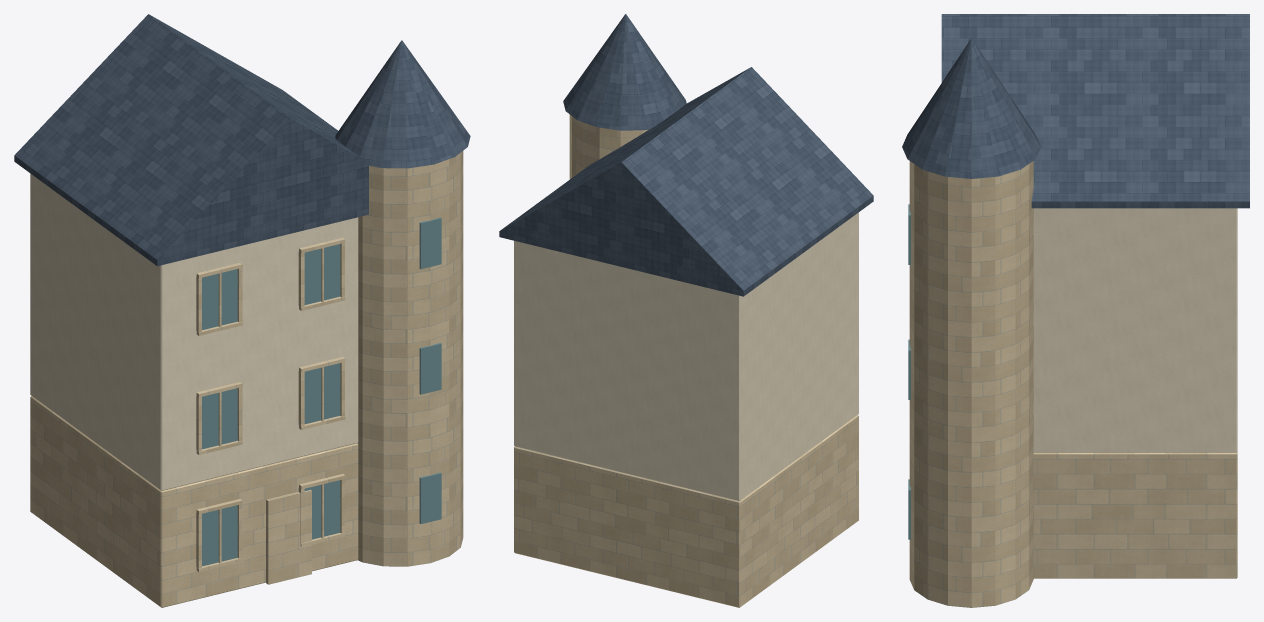
Rendered from Furn_Town_House_B.fbx.
The picture shows the model from 3 angles, left to right: view 1: azimuth 30°, elevation 25°; view 2: azimuth 150°, elevation 25°; view 3: azimuth 270°, elevation 25°; orthographic projection. The views are drawn at different scales.
Visible parts, largest first — view 1: Furn_Town_House_B_Mesh; view 2: Furn_Town_House_B_Mesh; view 3: Furn_Town_House_B_Mesh.
Boxes of the visible parts, x1,y1,x2,y2 form: Furn_Town_House_B_Mesh: (14,14,470,607); Furn_Town_House_B_Mesh: (499,14,873,607); Furn_Town_House_B_Mesh: (902,14,1249,607).
Size of the model in its own units: 8 by 12 by 7.
4 materials, 3 textured.
